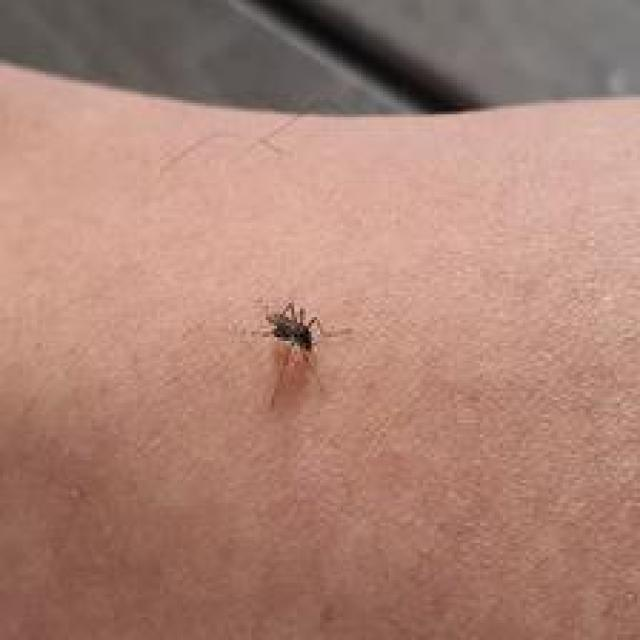Aedes albopictus: (246, 299, 351, 410)
